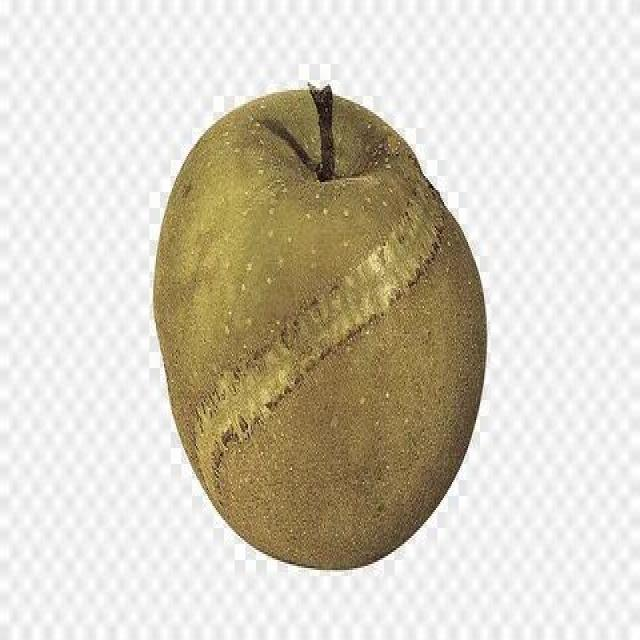fresh_apple: (153, 86, 482, 574)
